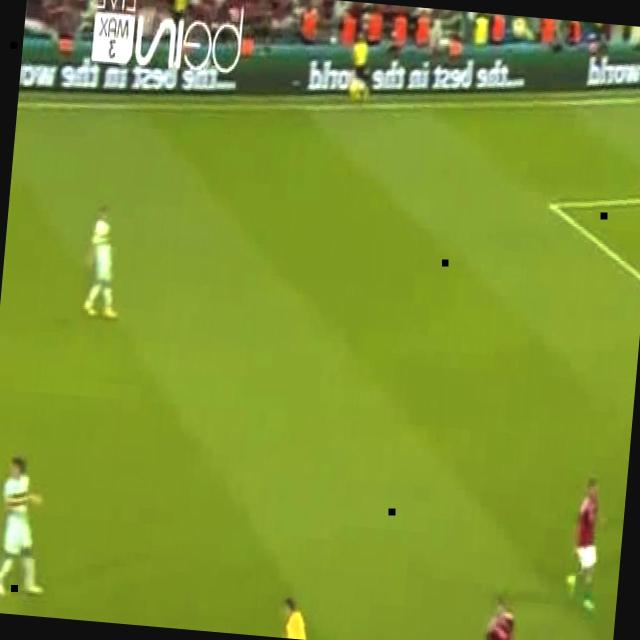player-white: (0, 457, 55, 602), (563, 478, 607, 610), (83, 207, 126, 321), (282, 598, 336, 640), (349, 28, 371, 104), (487, 597, 524, 640)
